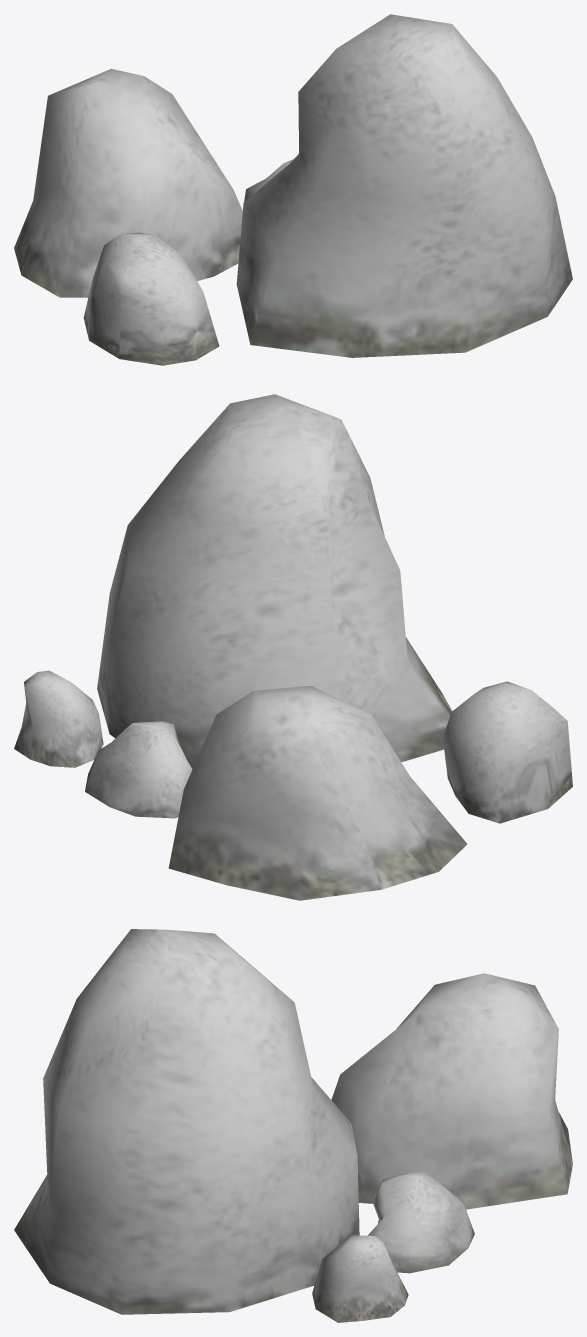
File: shrine_rock_03.fbx
The picture shows the model from 3 angles, top to bottom: view 1: azimuth 30°, elevation 25°; view 2: azimuth 150°, elevation 25°; view 3: azimuth 270°, elevation 25°; orthographic projection. The views are drawn at different scales.
Parts seen in each view (by area): view 1: Shrine_rock_03; view 2: Shrine_rock_03; view 3: Shrine_rock_03.
Part boxes in pixels (x1,y1,x2,y2): Shrine_rock_03: (14, 14, 572, 365); Shrine_rock_03: (14, 394, 572, 900); Shrine_rock_03: (14, 929, 572, 1322).
Size of the model in its own units: 3.69 by 2.22 by 3.69.
